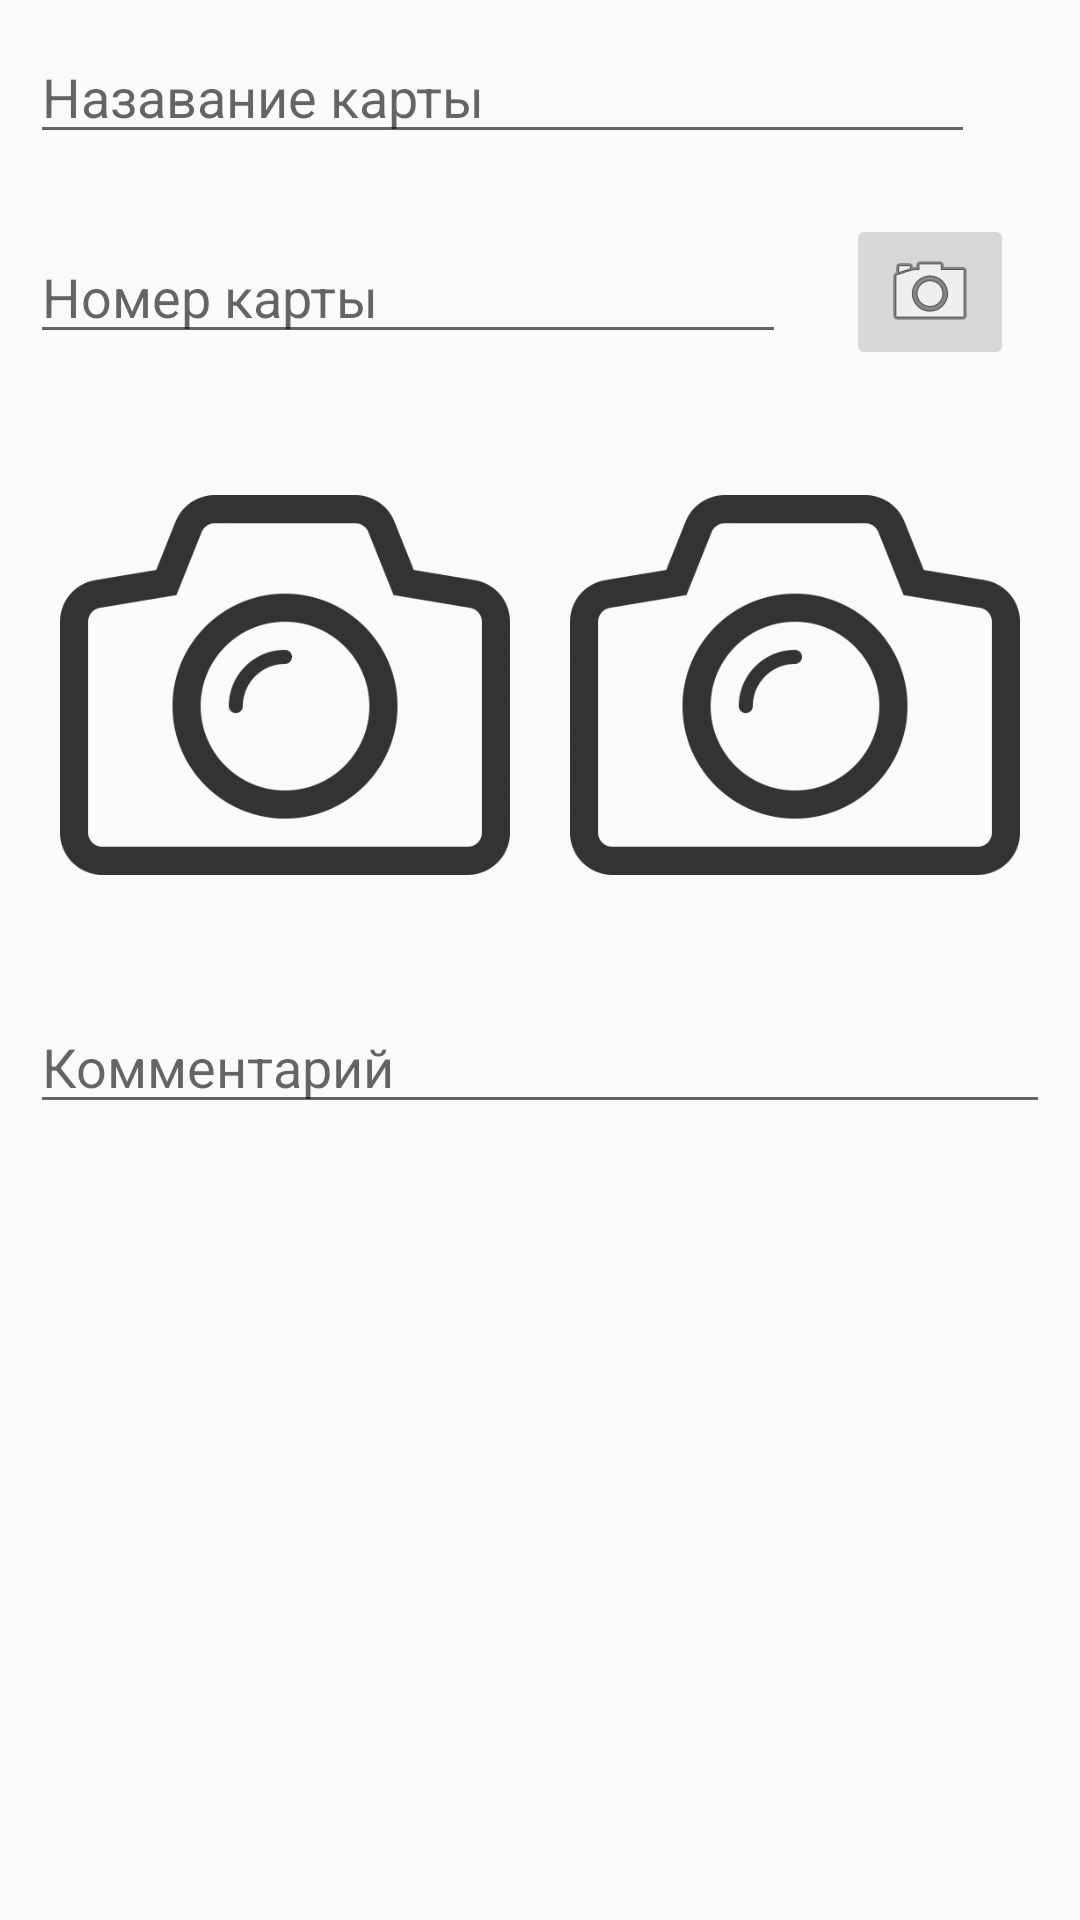

Point at icon controls on the screen. Image size 1080px x 1920px, points as (x=x, y=y).
camera: (x=930, y=292)
